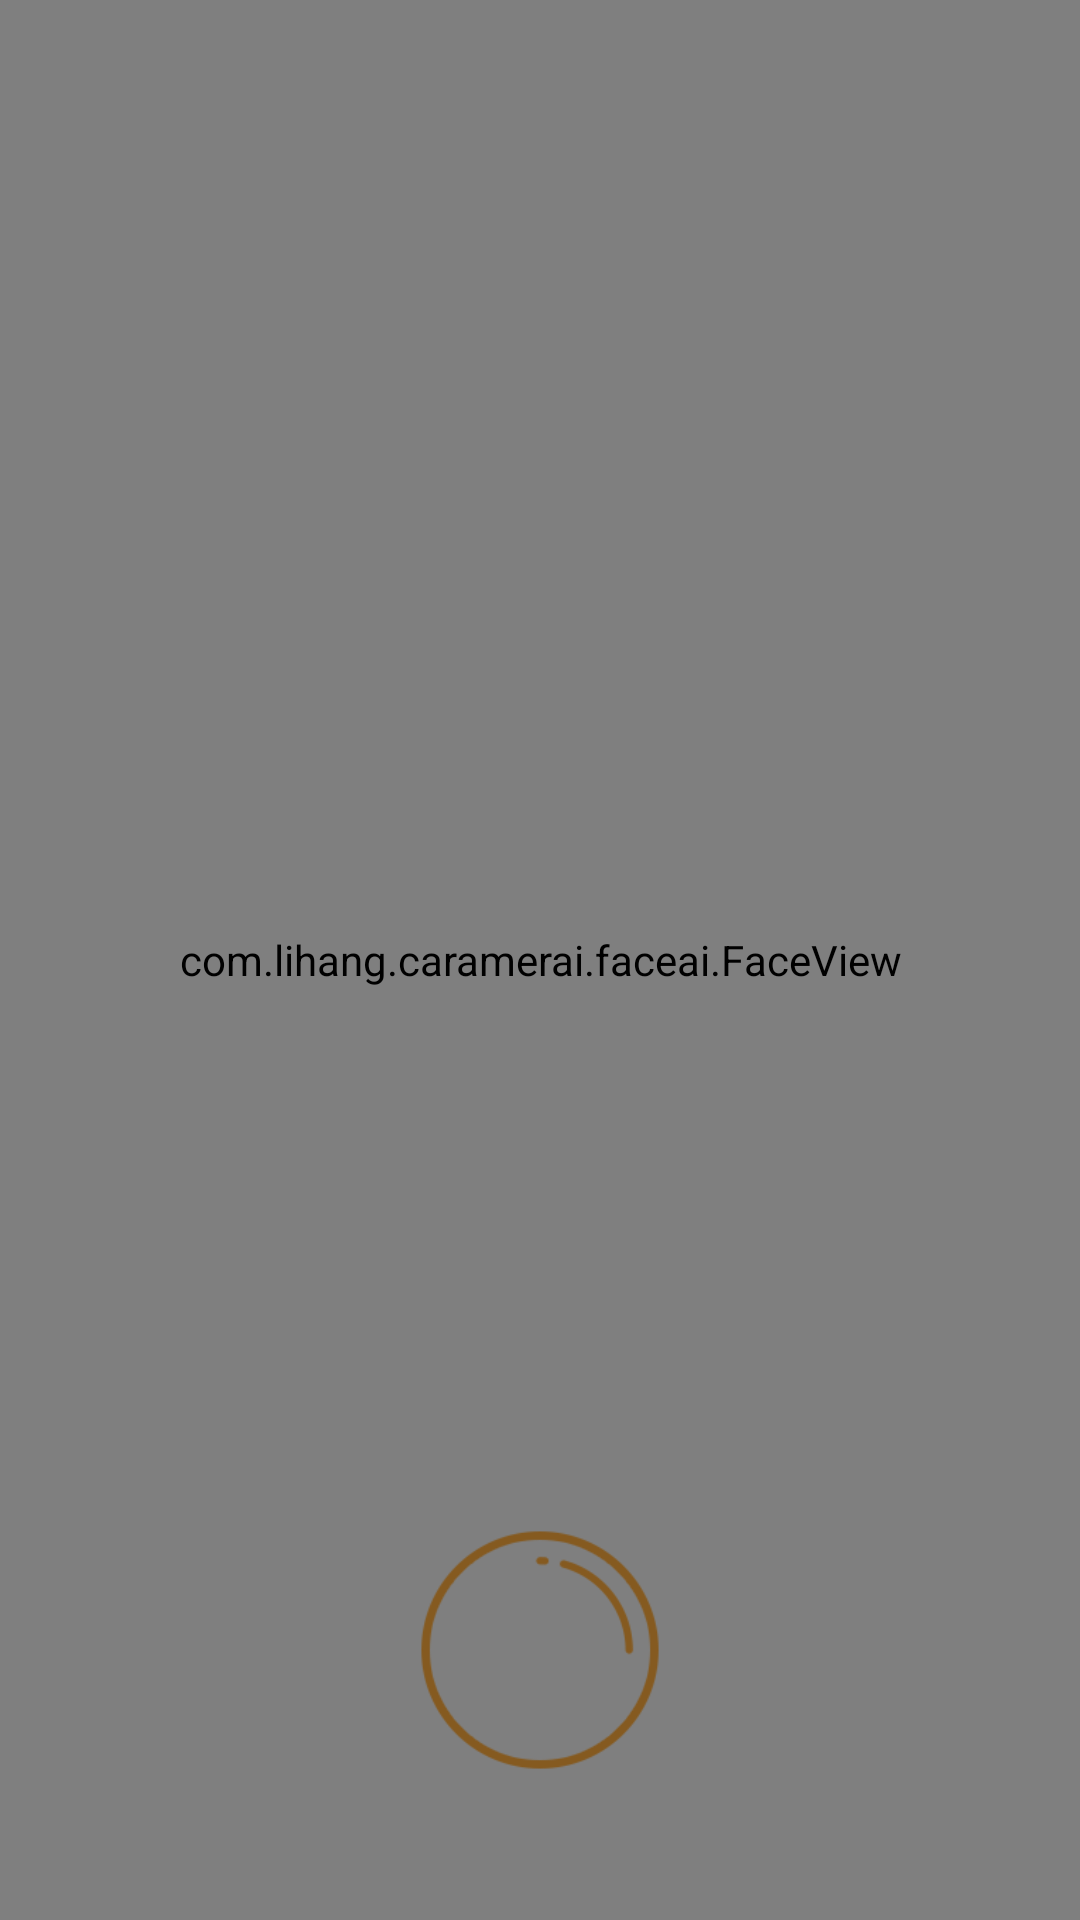

Icons on this 1080w x 1920h Android screen, each with the point to tap as (x=x, y=y):
tack photo: (x=540, y=1650)
